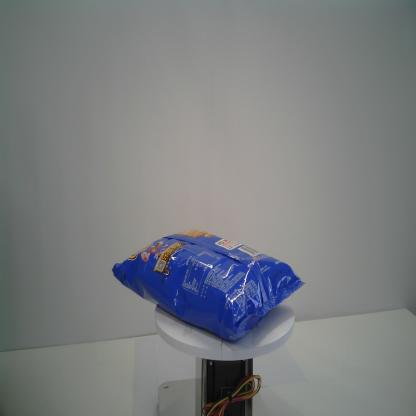Puffed Food: (109, 228, 305, 342)
